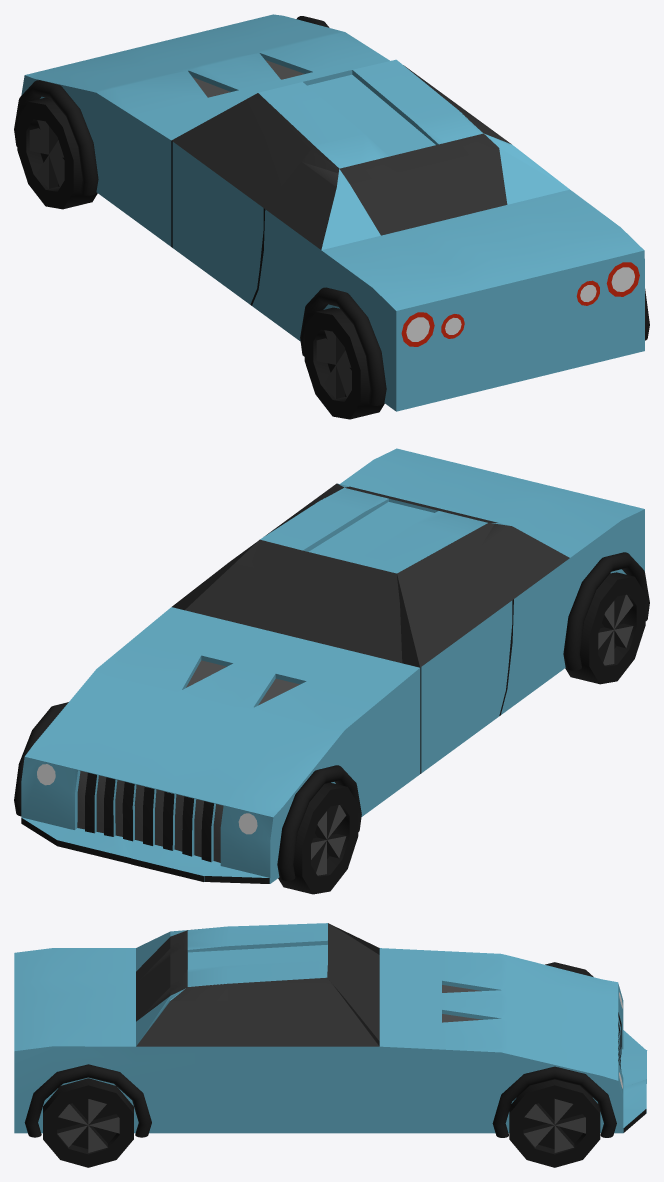
Rendered from Car.fbx.
3 renders of one model, top to bottom at view 1: azimuth 30°, elevation 25°; view 2: azimuth 150°, elevation 25°; view 3: azimuth 270°, elevation 25°, orthographic. The views are drawn at different scales.
Visible parts, largest first — view 1: Cube_1; view 2: Cube_1; view 3: Cube_1.
Boxes of the visible parts, box(x1,y1,x2,y2) form: Cube_1: box(14, 14, 649, 419); Cube_1: box(14, 448, 649, 894); Cube_1: box(14, 923, 647, 1167).
Size of the model in its own units: 240 by 160 by 572.
